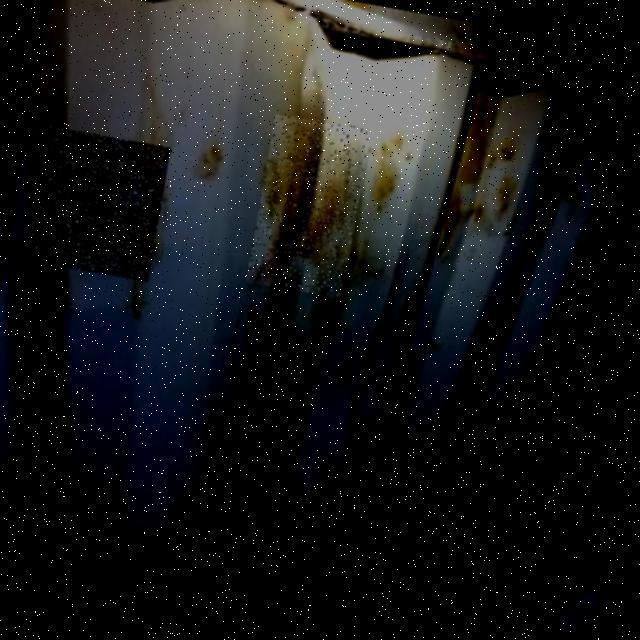Rust: (246, 112, 371, 298), (26, 126, 171, 281)
